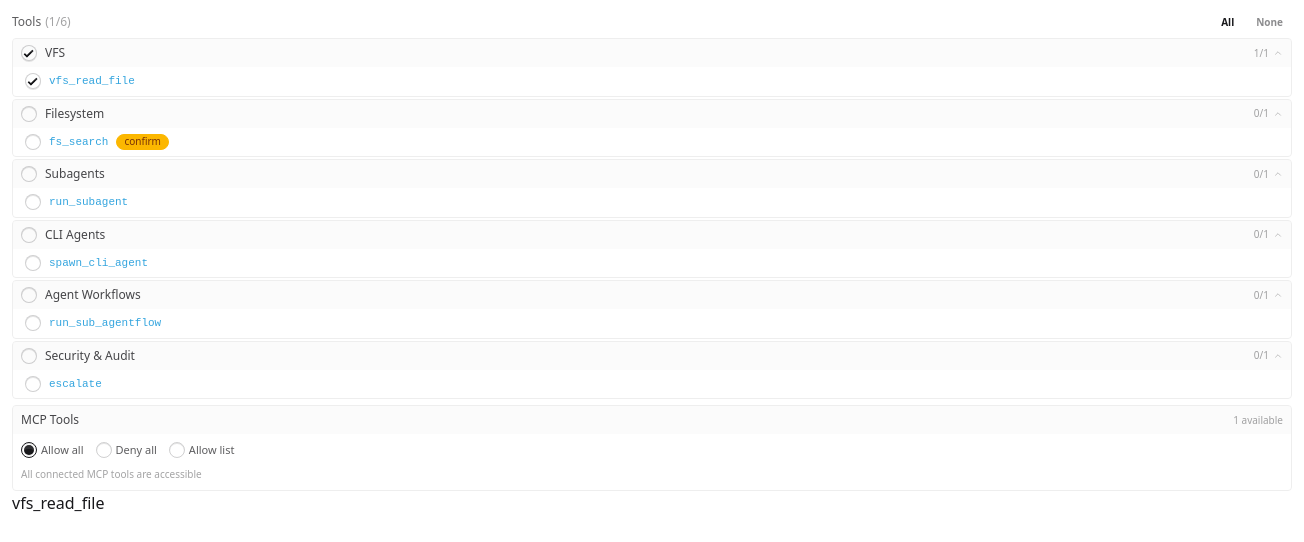
Test: PersonaToolPicker › groups native tools, supports global selection controls, and switches MCP policy when needed
Expected: the checkbox with test id "group-toggle-vfs" is shown, [21, 45, 37, 61]
Expected: the text "VFS" is shown, [45, 45, 65, 61]
Click the button with test id "tools-enable-all" at {"x": 1228, "y": 22}, box [1212, 12, 1243, 32]
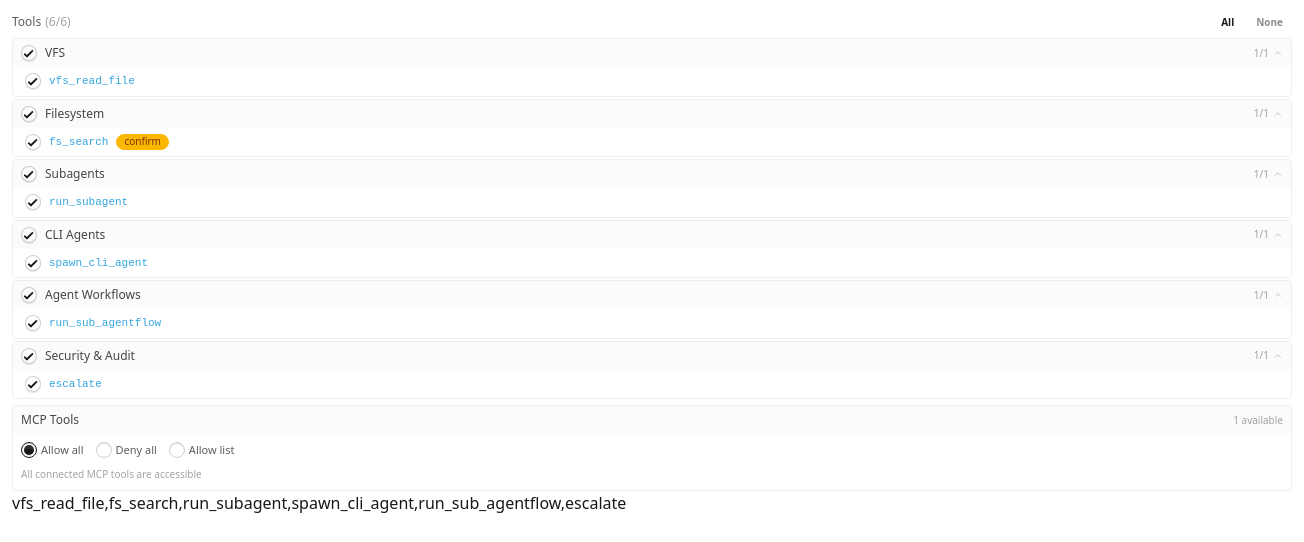
Now the checkbox with test id "group-toggle-fs" is checked, box [21, 106, 37, 122]
Now the checkbox with test id "group-toggle-subagents" is checked, box [21, 166, 37, 182]
Now the checkbox with test id "group-toggle-cli-agents" is checked, box [21, 226, 37, 242]
Click the button with test id "tools-disable-all" at {"x": 1270, "y": 22}, box [1247, 12, 1292, 32]
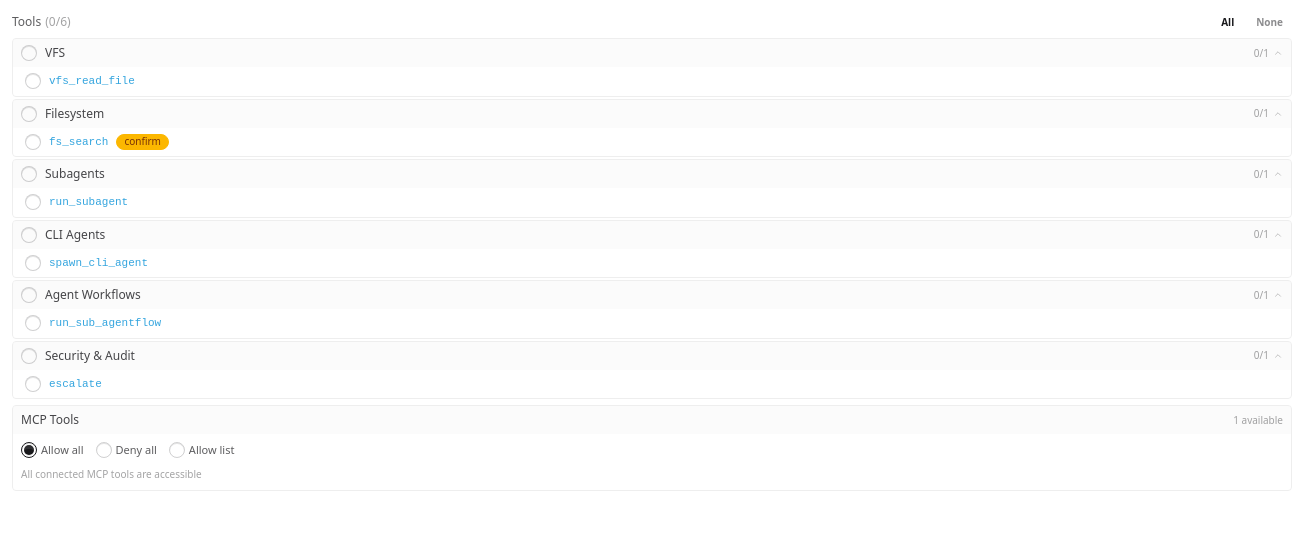
Now the checkbox with test id "group-toggle-vfs" is not checked, box [21, 45, 37, 61]
Now the checkbox with test id "group-toggle-fs" is not checked, box [21, 106, 37, 122]
Now the checkbox with test id "group-toggle-subagents" is not checked, box [21, 166, 37, 182]
Click the label with test id "mcp-policy-allow_list" at {"x": 202, "y": 450}, box [169, 442, 234, 458]
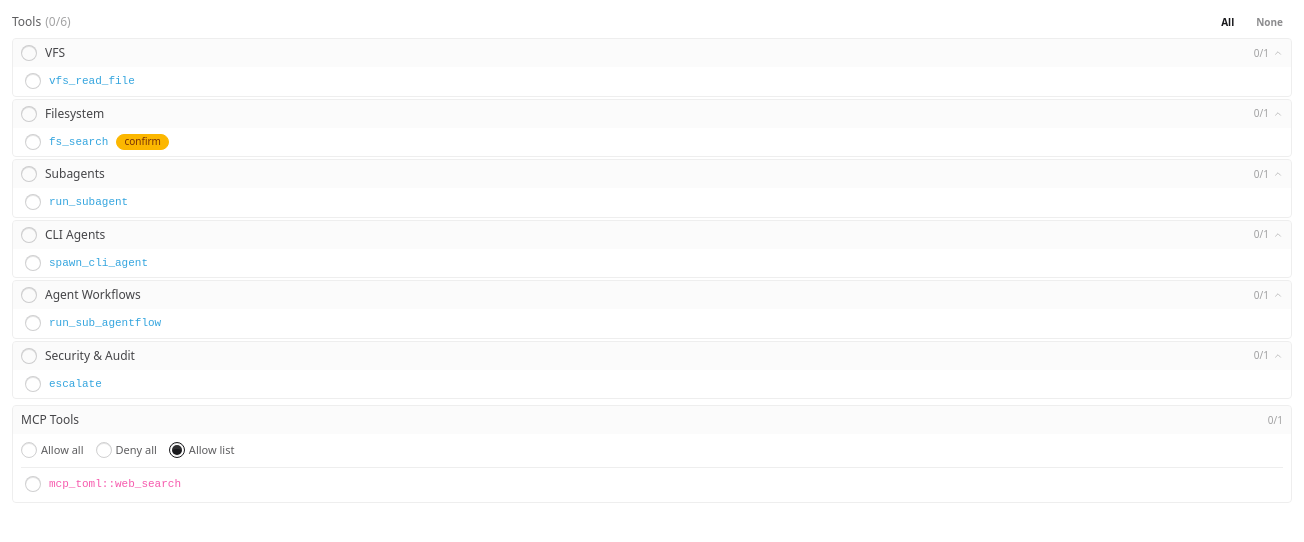
Click the label "mcp_toml::web_search" at {"x": 103, "y": 484}, box [25, 476, 181, 492]
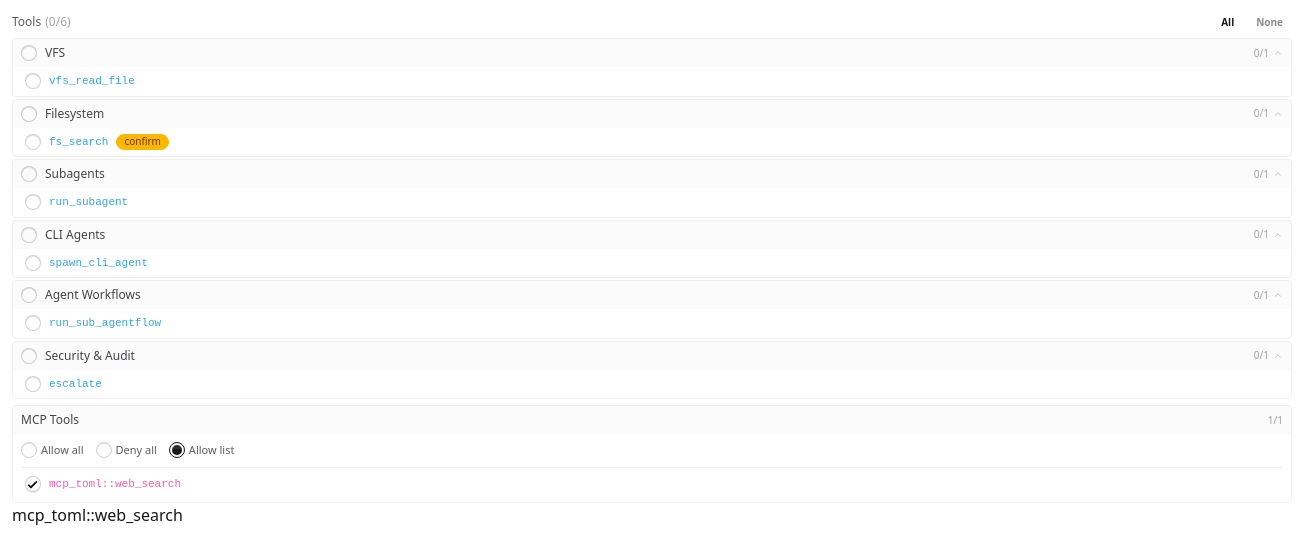
Now the radio button labelled "Allow list" is checked, box [169, 442, 185, 458]
Now the text "1/1" is shown, box [1268, 412, 1283, 428]
